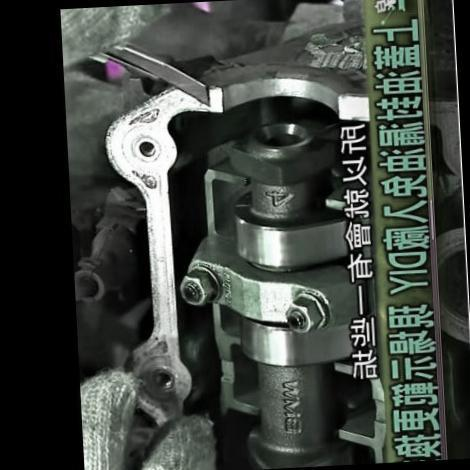hole: (151, 368, 173, 390), (136, 139, 156, 158)
